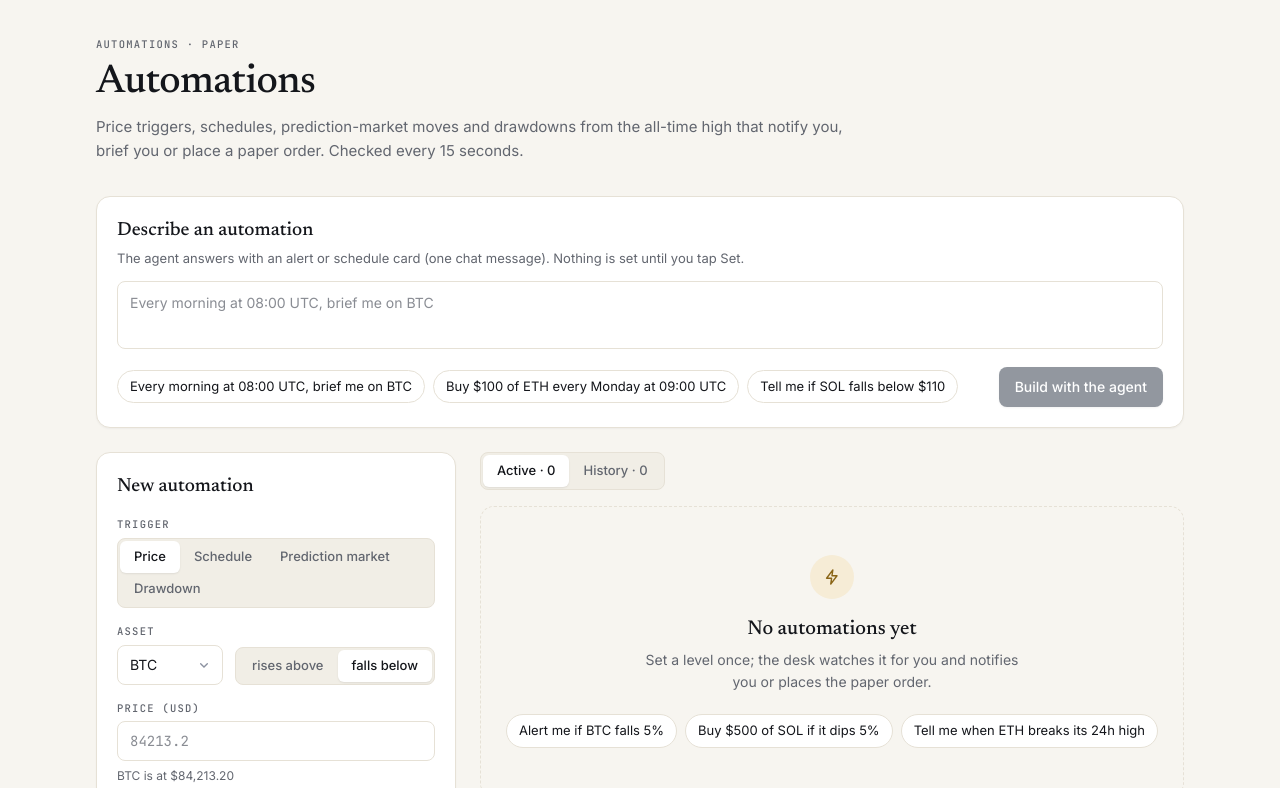
Test case: scheduled research form › discloses two credits per run before free creation and sends a general weekday prompt without order fields
Click the button "Schedule" at (223,557), box [180,541,266,573]
(page scrolled)
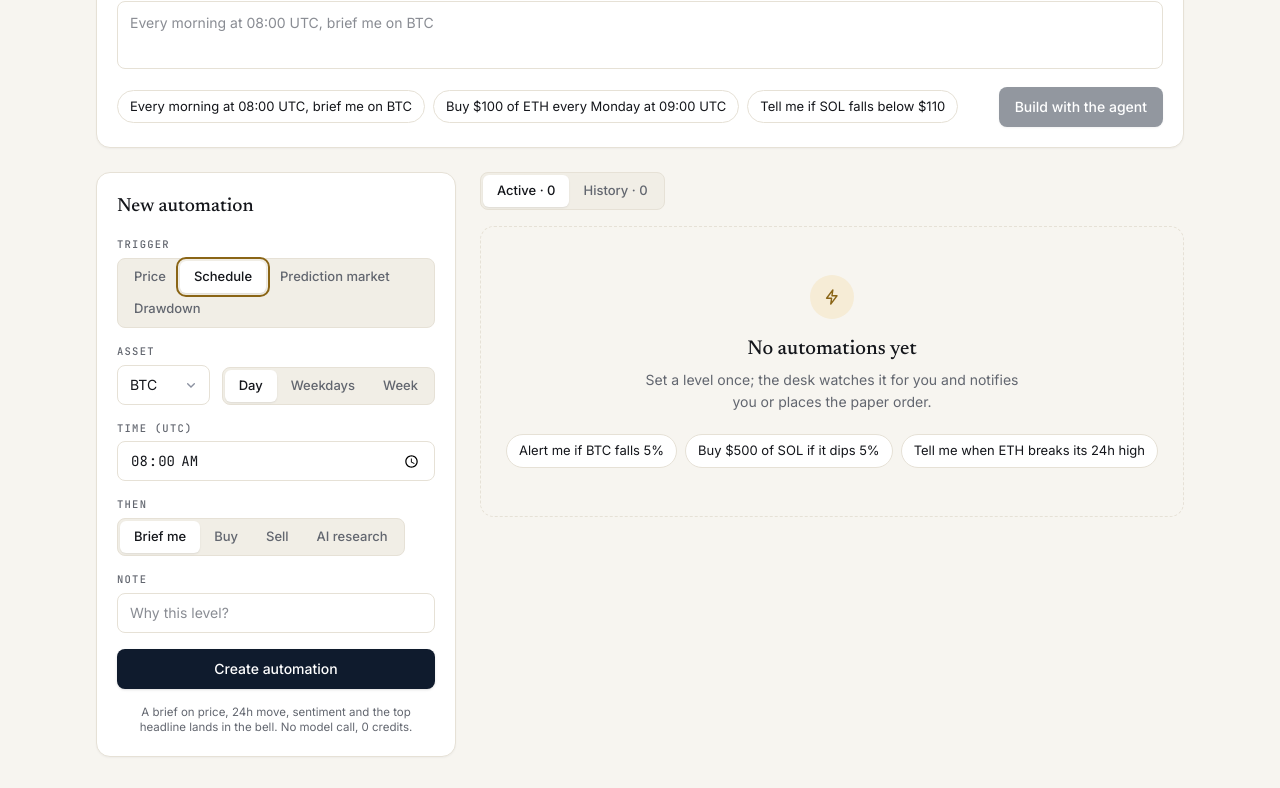
Click the button "AI research" at (352,537), box [303,521,402,553]
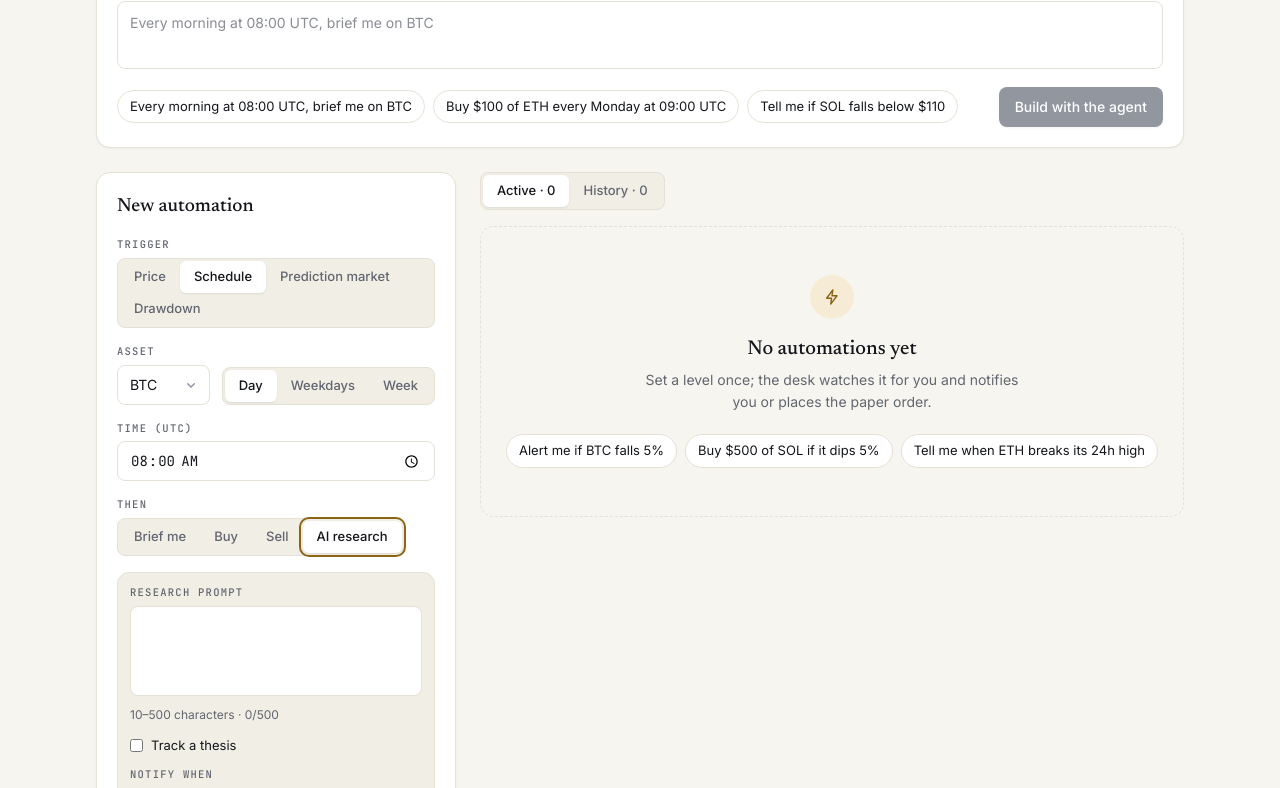
Select "General research" in the dropdown labelled "Asset" at (163,384), box [117,364,210,404]
Click the button "Weekdays" at (323,386), box [277,370,369,402]
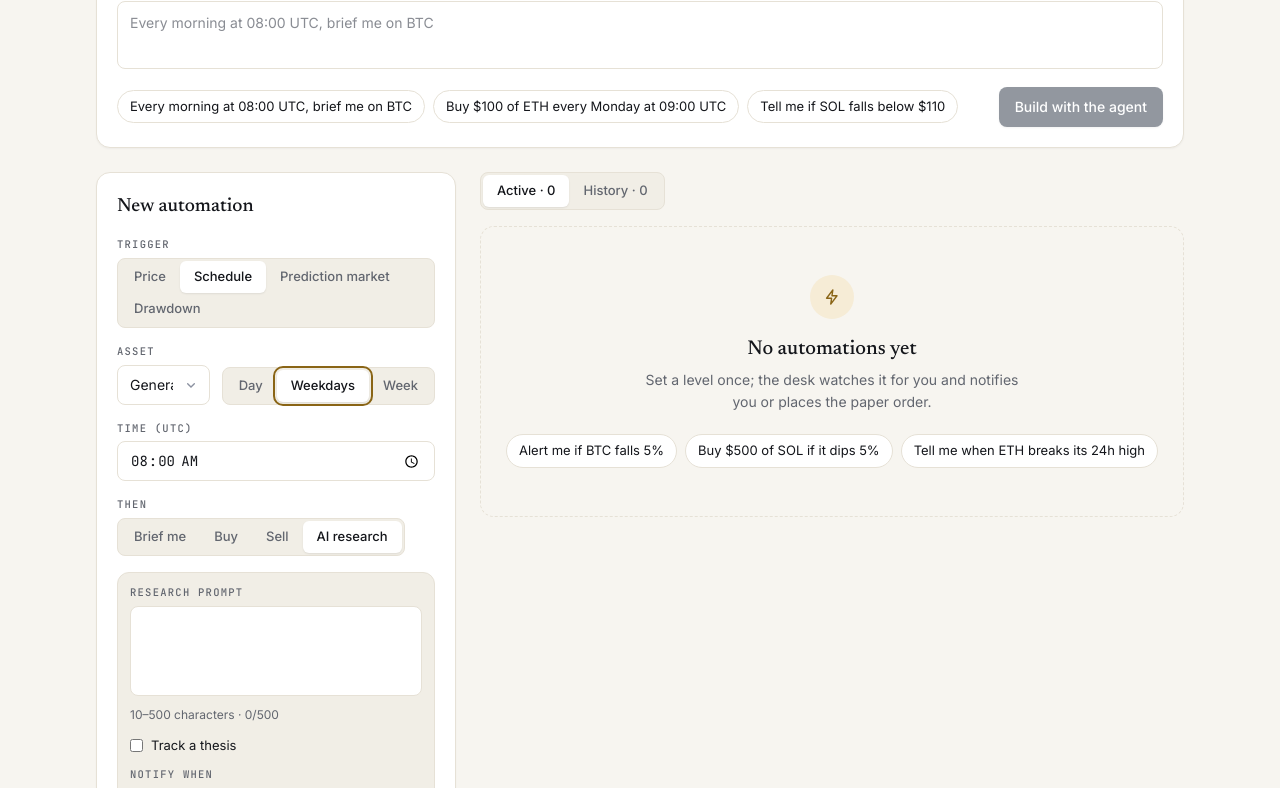
Type "  Review the market evidence  " into the text box labelled "Research prompt" at (276,651), box [130,606,422,696]
(page scrolled)
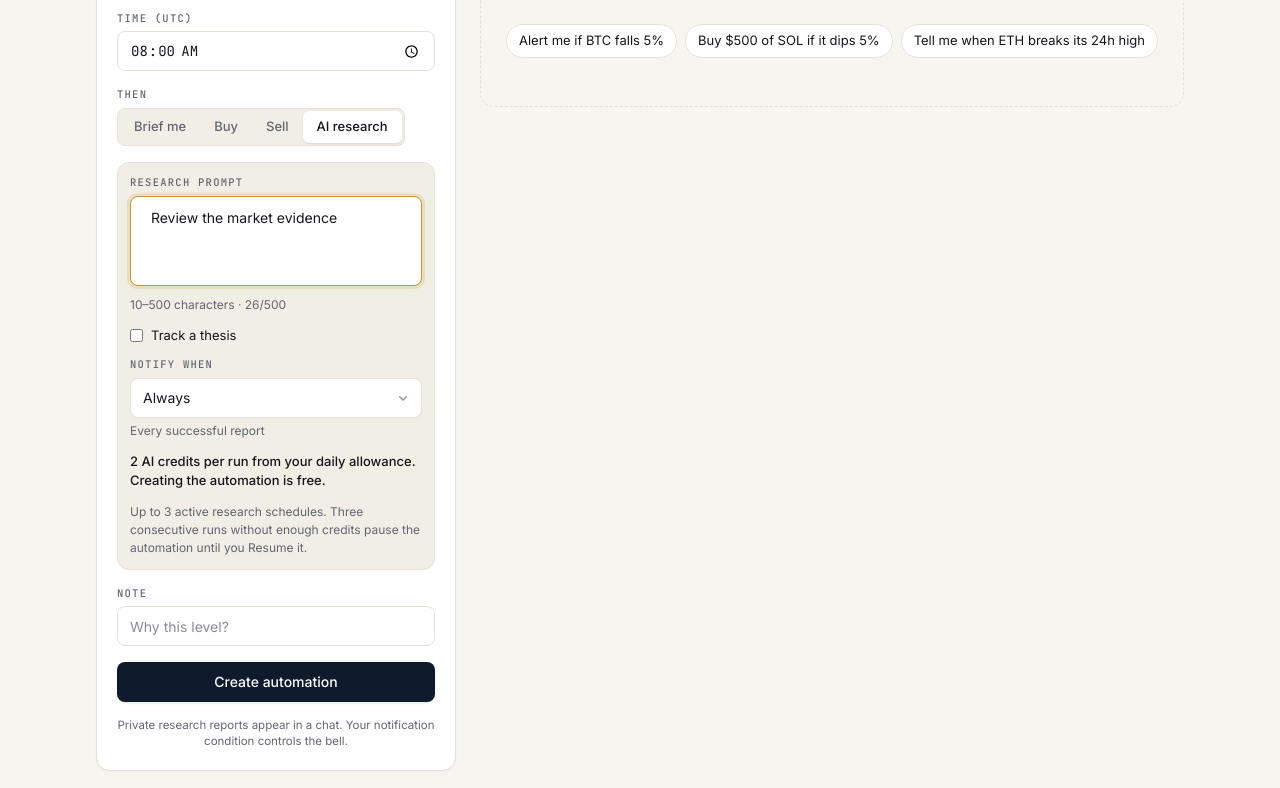
Select "Changed" in the dropdown labelled "Notify when" at (276,398), box [130,378,422,418]
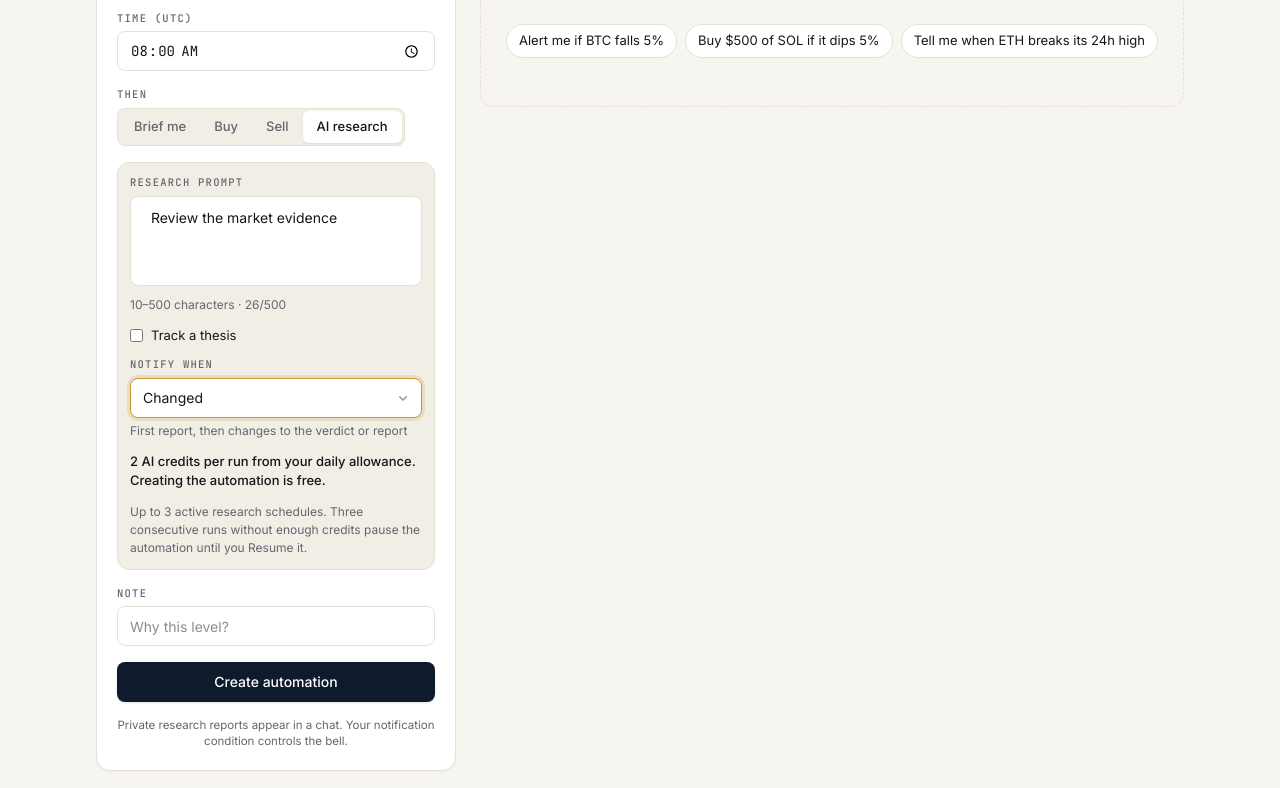
Click the button "Create automation" at (276,682), box [117,662,435,702]
(page scrolled)
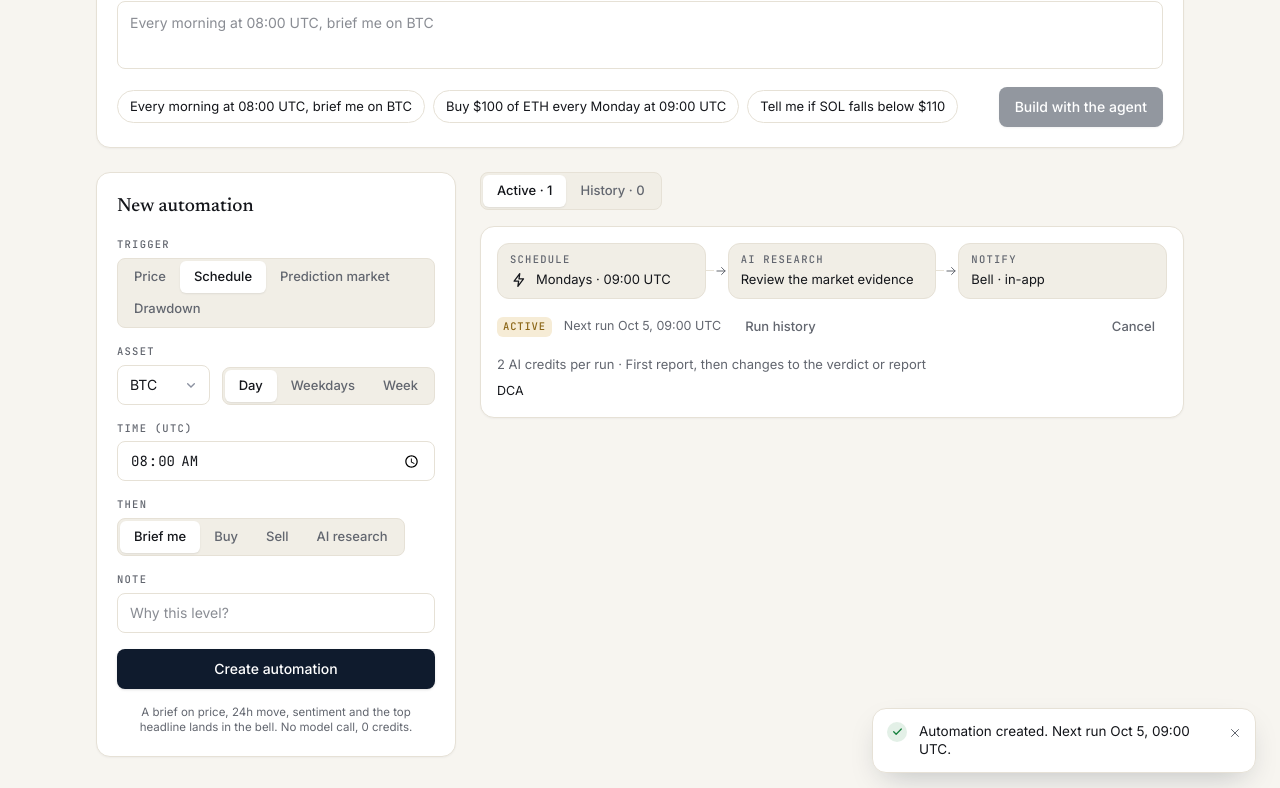
Result: the list item "Review the market evidence" is shown at [741,271,914,287]
